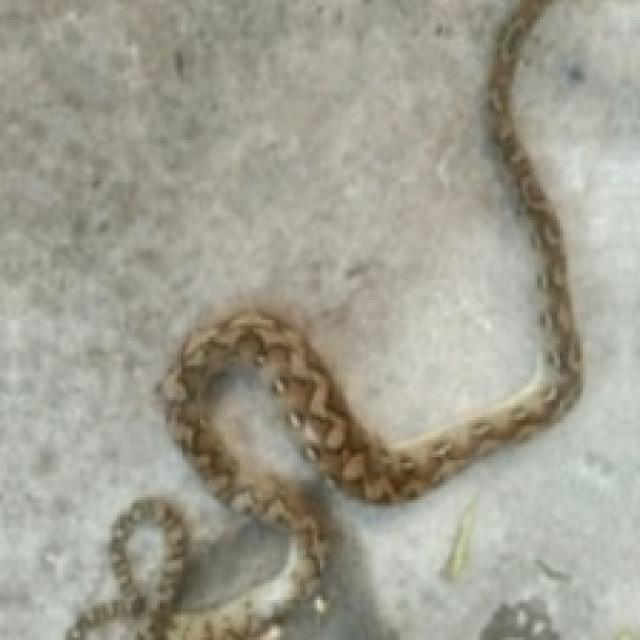reticulated python: (70, 0, 579, 639)
